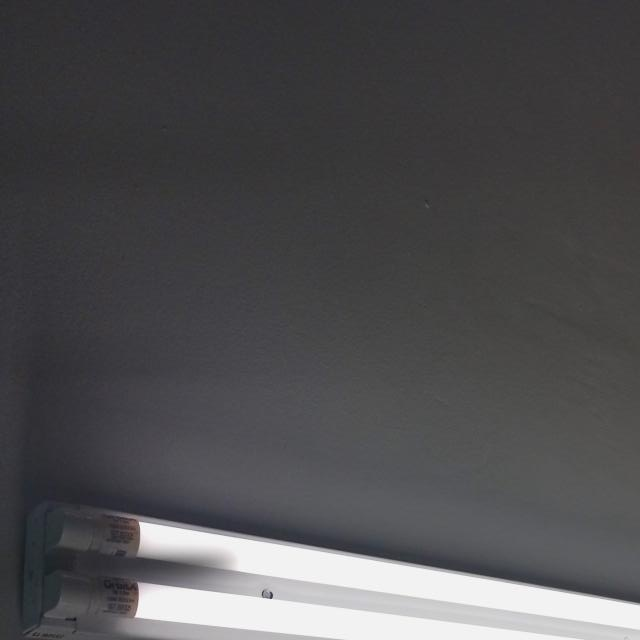fluorescent tube: (15, 410, 640, 640)
